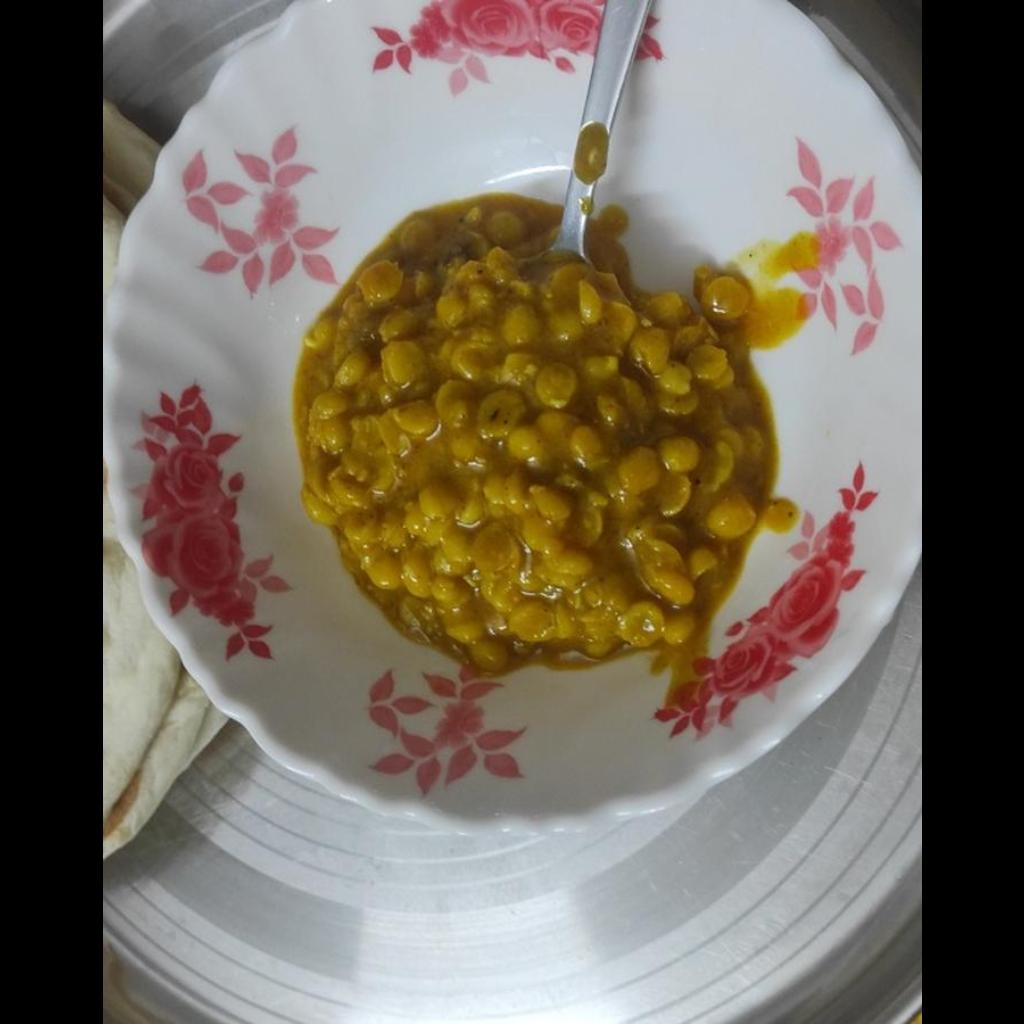daal: (293, 206, 756, 663)
